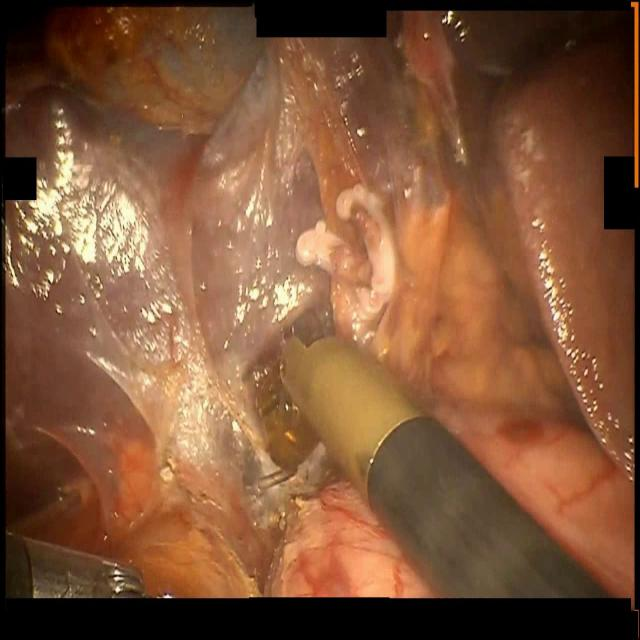surgical-area: (4, 5, 634, 600)
surgical-tool: (247, 302, 613, 600)
